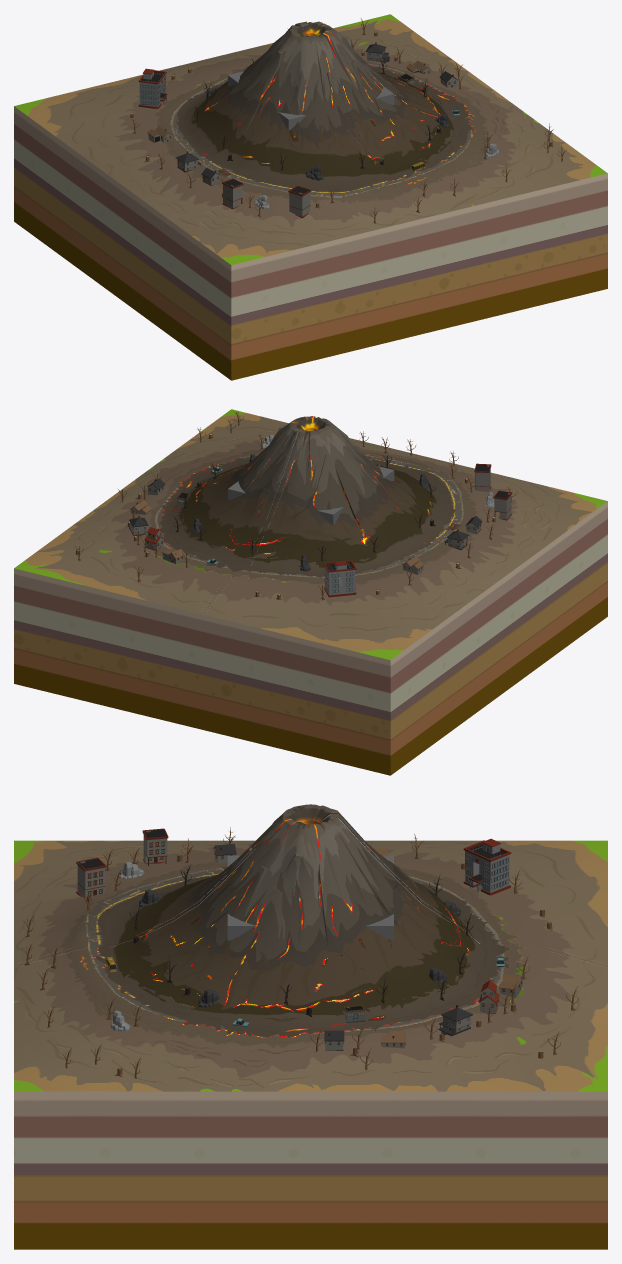
The model's file is vol5.fbx.
3 views of the same model, one above another, from view 1: azimuth 30°, elevation 25°; view 2: azimuth 150°, elevation 25°; view 3: azimuth 270°, elevation 25° (orthographic). The views are drawn at different scales.
Visible parts, largest first — view 1: vol5_01, vol5_04, vol5_pivot; view 2: vol5_01, vol5_04, vol5_pivot; view 3: vol5_04, vol5_01, vol5_pivot.
Boxes of the visible parts, x1=… form: vol5_01: x1=14, y1=22, x2=419, y2=380; vol5_04: x1=202, y1=14, x2=607, y2=334; vol5_pivot: x1=228, y1=71, x2=394, y2=130; vol5_01: x1=202, y1=418, x2=607, y2=775; vol5_04: x1=14, y1=409, x2=419, y2=729; vol5_pivot: x1=228, y1=466, x2=394, y2=525; vol5_04: x1=14, y1=816, x2=607, y2=1249; vol5_01: x1=14, y1=804, x2=607, y2=965; vol5_pivot: x1=227, y1=855, x2=393, y2=941.
Bounding box in the file's own units: 35.7 × 20.51 × 35.7.
7 materials, 6 textured.
